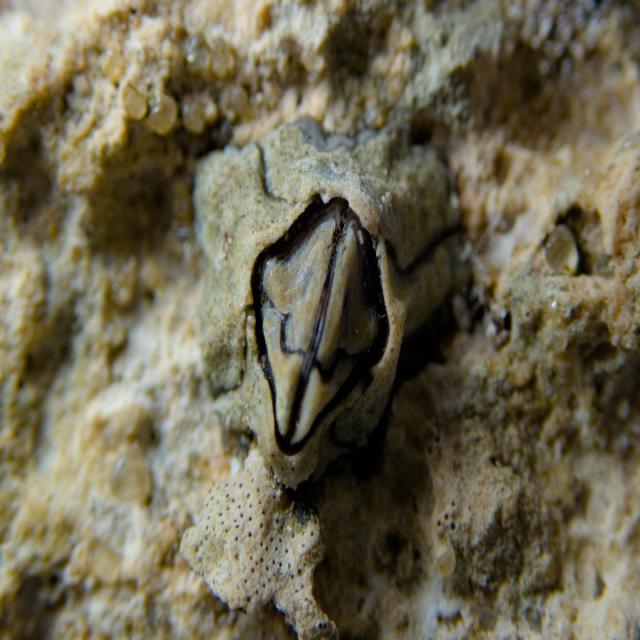barnacles: (192, 107, 469, 504)
